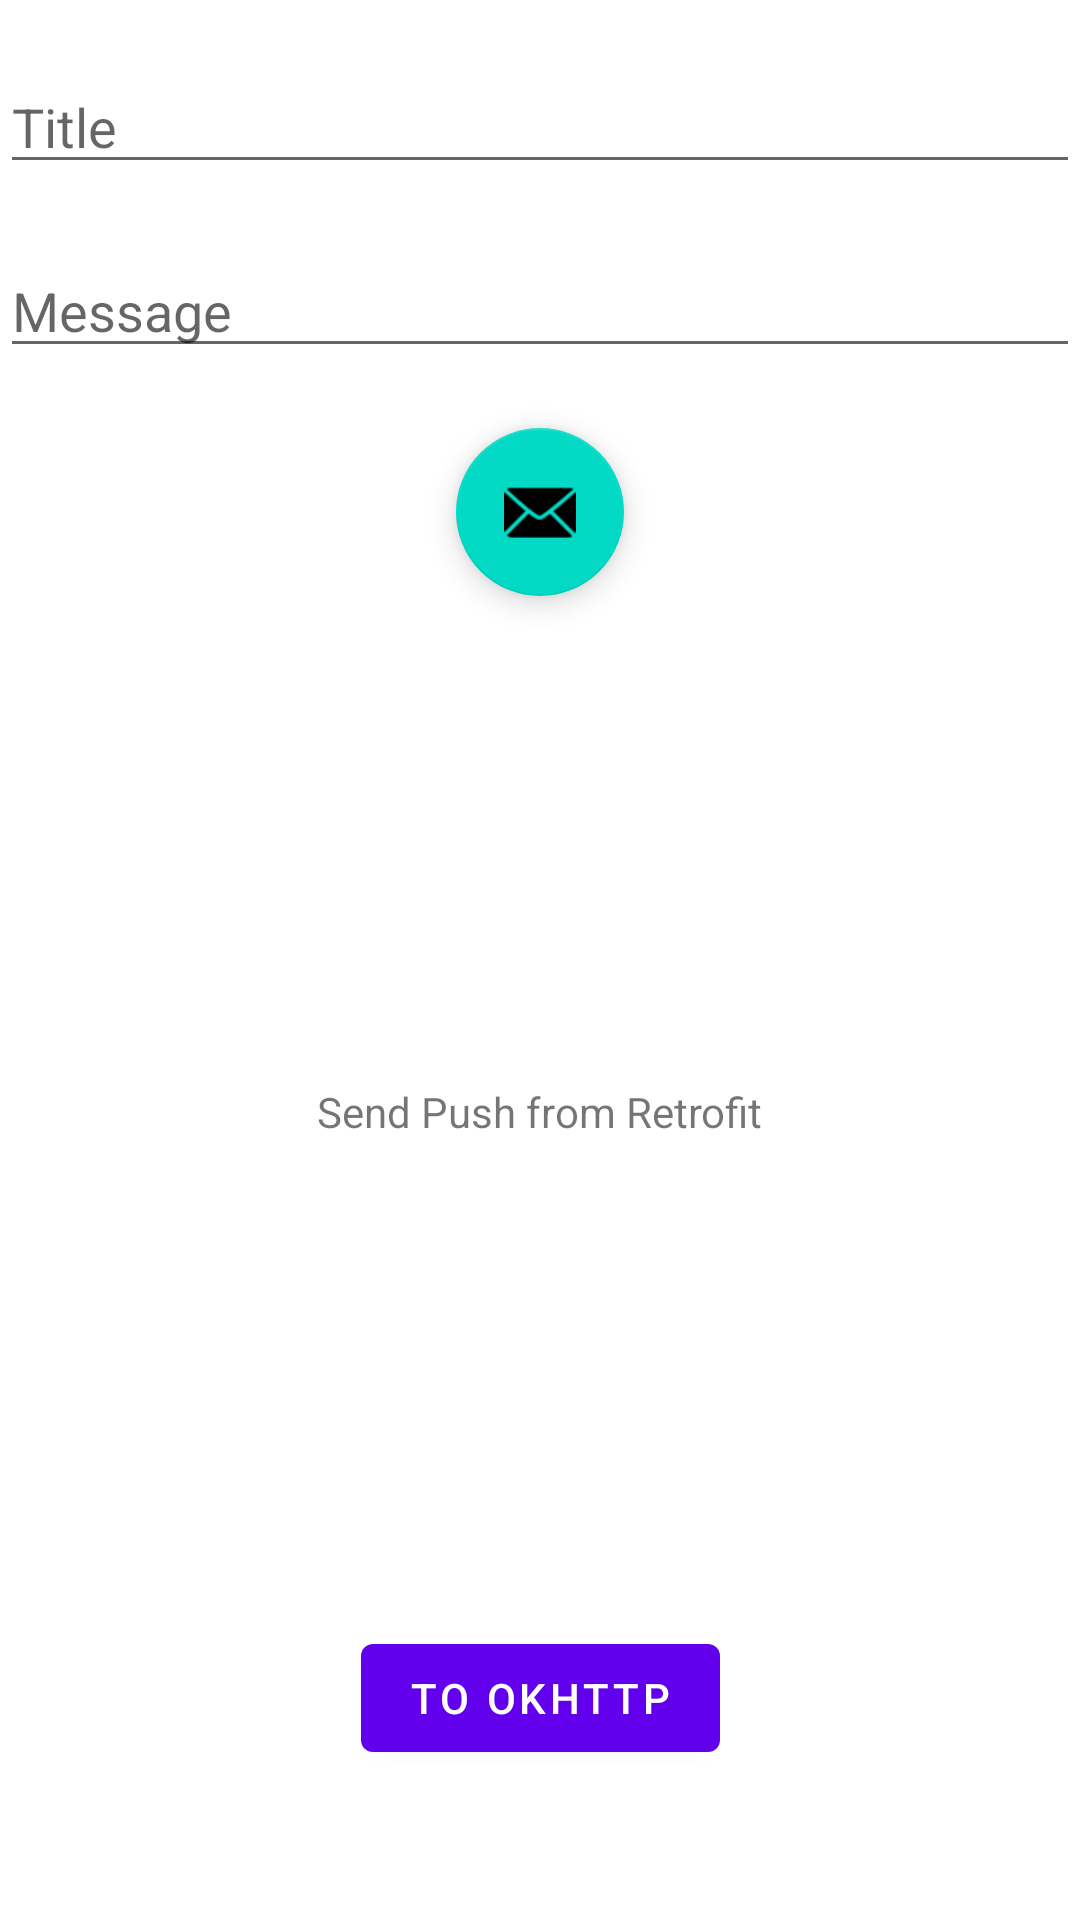

Named icons in this screenshot (1080 × 1920) and their bounding boxes, bbox=[x1, y1, x2, y2]:
email: bbox=[456, 428, 624, 596]
